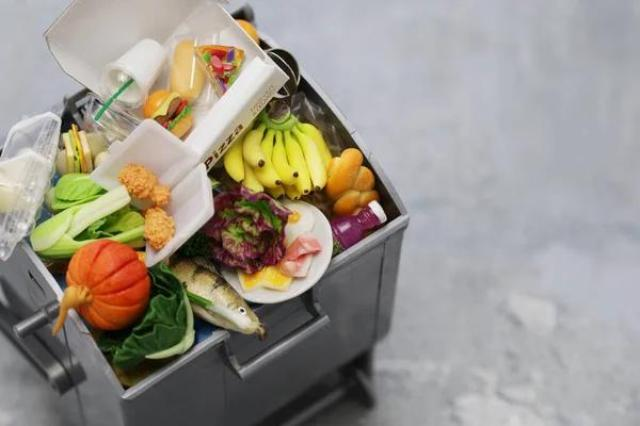Garbage: (0, 0, 392, 369)
contaminated_waste: (45, 3, 286, 168), (90, 120, 214, 267), (219, 201, 331, 303), (101, 39, 166, 107)
